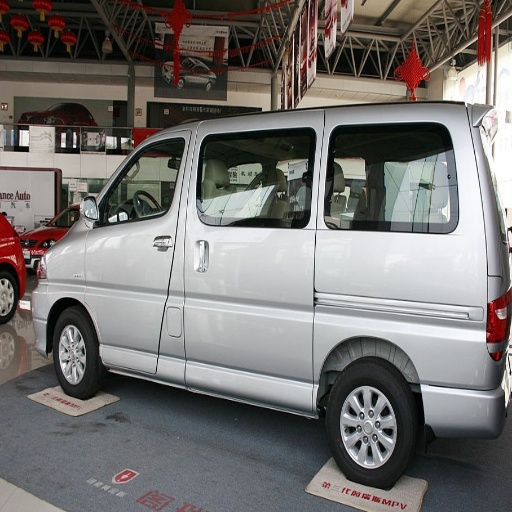trunk: (145, 223, 301, 348), (354, 302, 491, 427), (433, 185, 499, 288)
